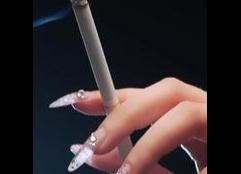Cigarette: (67, 0, 137, 160)
